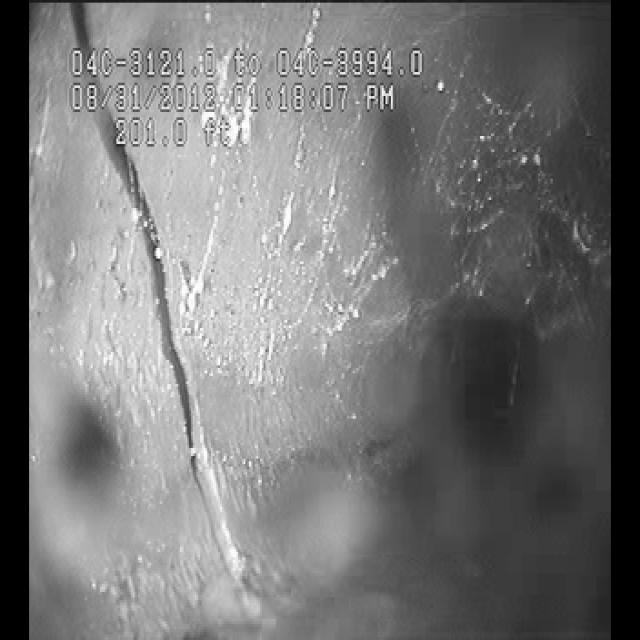Fracture: (82, 157, 252, 634)
